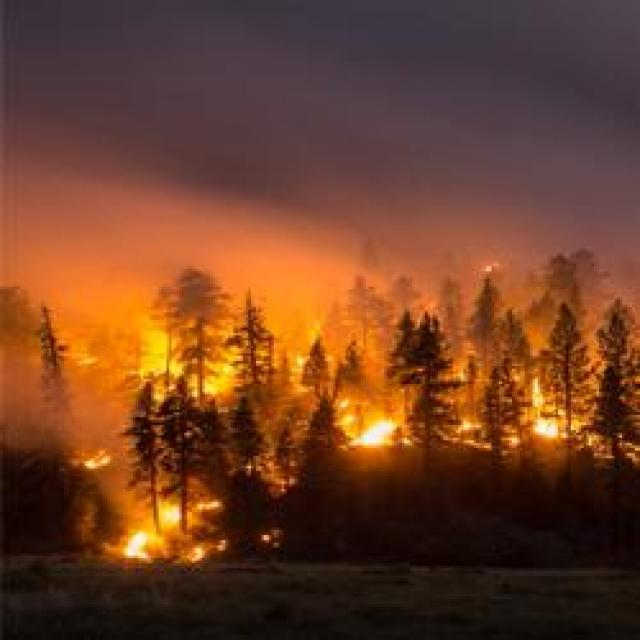fire: (103, 306, 248, 411), (96, 481, 214, 575), (518, 378, 579, 454), (341, 407, 433, 452), (75, 449, 113, 473)
